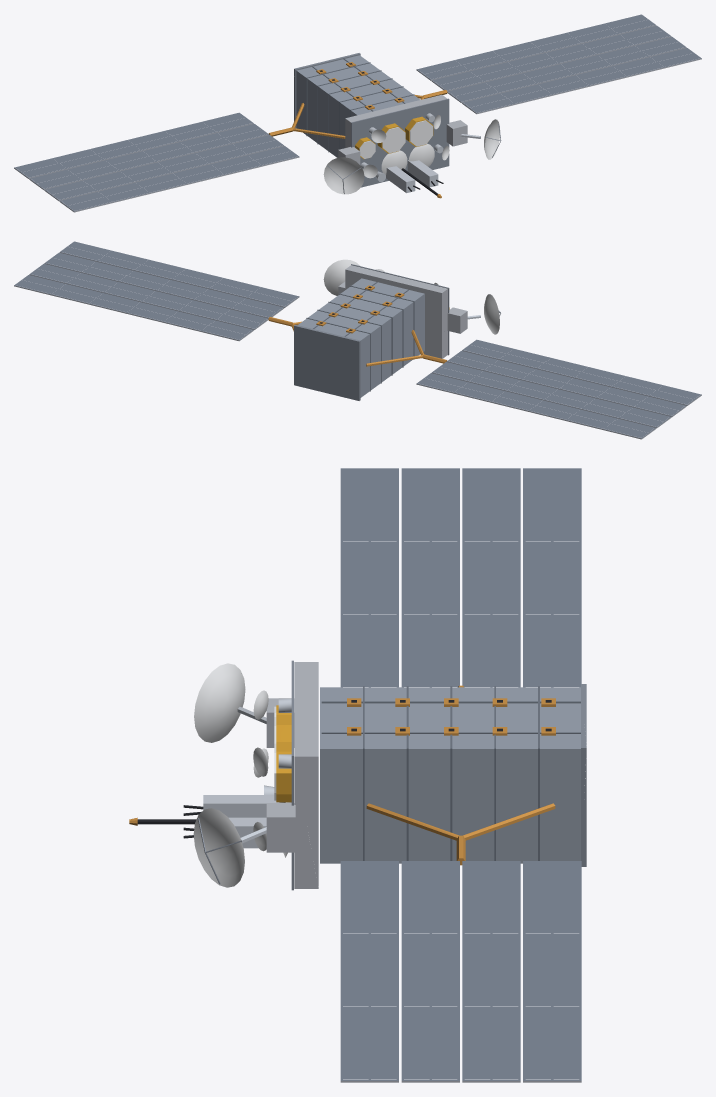
The model's file is aehf.glb.
3 renders of one model, top to bottom at view 1: azimuth 30°, elevation 25°; view 2: azimuth 150°, elevation 25°; view 3: azimuth 270°, elevation 25°, orthographic. The views are drawn at different scales.
Parts seen in each view (by area): view 1: body, foil, solar-panel; view 2: body, foil; view 3: body, foil.
Boxes of the visible parts, x1=… form: body: x1=14, y1=14, x2=701, y2=212; foil: x1=296, y1=55, x2=433, y2=159; solar-panel: x1=359, y1=120, x2=432, y2=158; body: x1=14, y1=241, x2=701, y2=439; foil: x1=298, y1=278, x2=449, y2=397; body: x1=129, y1=468, x2=586, y2=1082; foil: x1=276, y1=686, x2=580, y2=863.
Bounding box in the file's own units: 29.8 × 3.04 × 9.4.
